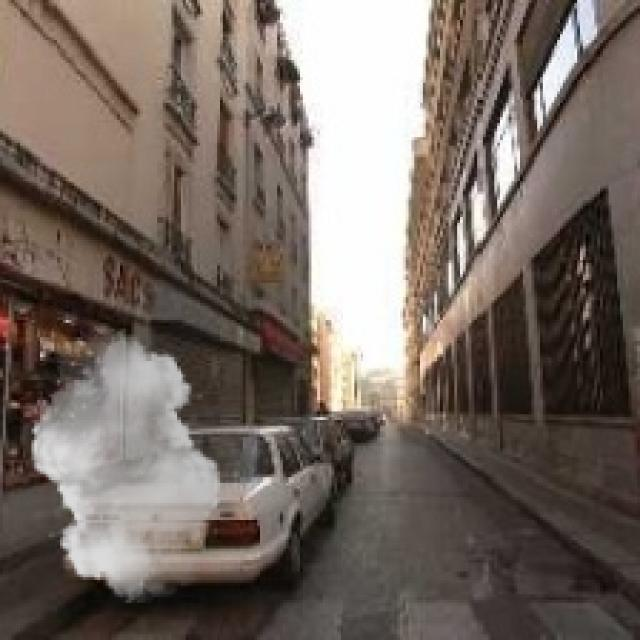smoke: (23, 328, 228, 603)
